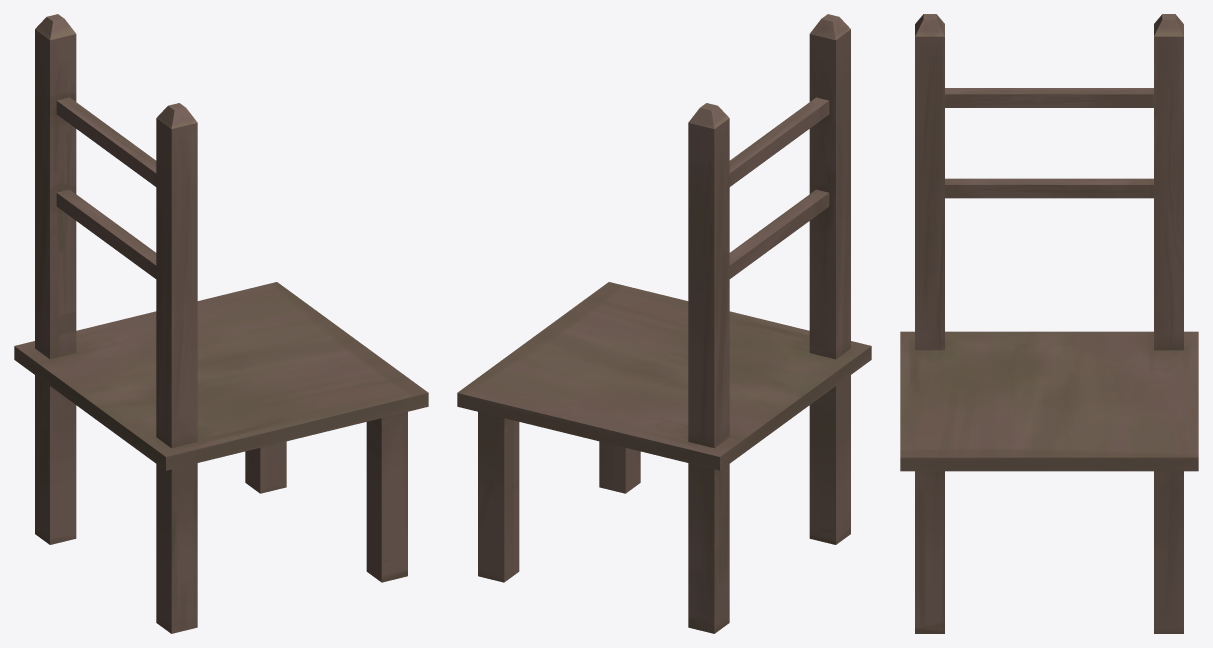
The model's file is Chair.fbx.
3 renders of one model, left to right at view 1: azimuth 30°, elevation 25°; view 2: azimuth 150°, elevation 25°; view 3: azimuth 270°, elevation 25°, orthographic.
Visible parts, largest first — view 1: Cube; view 2: Cube; view 3: Cube.
Boxes of the visible parts, x1=… form: Cube: x1=14, y1=14, x2=428, y2=633; Cube: x1=457, y1=14, x2=871, y2=633; Cube: x1=900, y1=14, x2=1198, y2=633.
Bounding box in the file's own units: 2 × 3.77 × 2.
